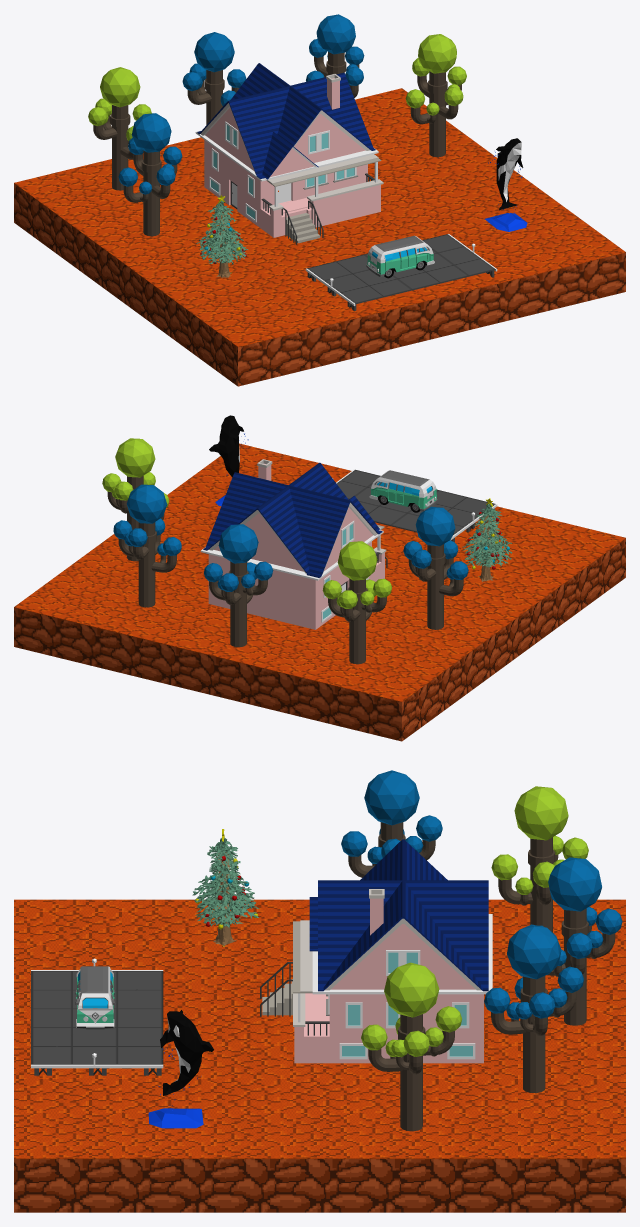
3 renders of one model, top to bottom at view 1: azimuth 30°, elevation 25°; view 2: azimuth 150°, elevation 25°; view 3: azimuth 270°, elevation 25°, orthographic. The views are drawn at different scales.
Visible parts, largest first — view 1: Cube.001, Cube.313, OBJRANDOM_CHRISTMAS_TREE, VEHICLES_VAN, ANIMAL_ORCA; view 2: Cube.001, Cube.313, OBJRANDOM_CHRISTMAS_TREE, VEHICLES_VAN, ANIMAL_ORCA; view 3: Cube.001, Cube.313, OBJRANDOM_CHRISTMAS_TREE, ANIMAL_ORCA, VEHICLES_VAN.
Part boxes in pixels (x1,y1,x2,y2): Cube.001: (14,14,625,386); Cube.313: (195,63,383,244); OBJRANDOM_CHRISTMAS_TREE: (196,195,248,277); VEHICLES_VAN: (366,235,434,278); ANIMAL_ORCA: (485,138,527,231); Cube.001: (14,438,625,741); Cube.313: (200,459,387,629); OBJRANDOM_CHRISTMAS_TREE: (462,498,512,581); VEHICLES_VAN: (369,470,437,512); ANIMAL_ORCA: (209,415,248,505); Cube.001: (14,770,625,1212); Cube.313: (260,839,492,1063); OBJRANDOM_CHRISTMAS_TREE: (192,829,259,946); ANIMAL_ORCA: (148,1010,213,1128); VEHICLES_VAN: (75,966,115,1029).
Size of the model in its own units: 4000 by 1614 by 4000.
36 materials, 5 textured.
